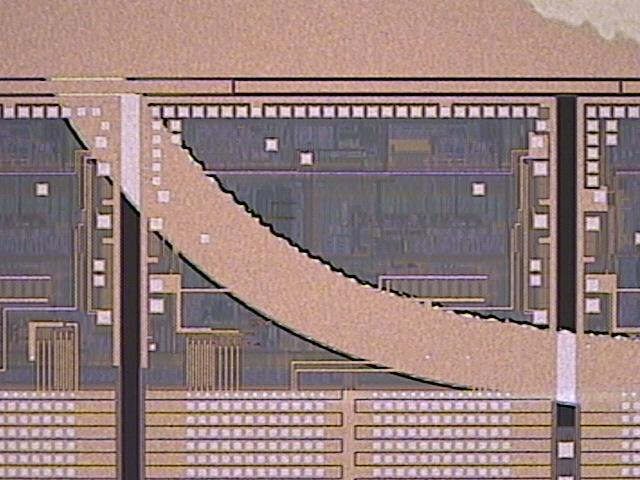BLOCK ETCH: (27, 1, 640, 420)
